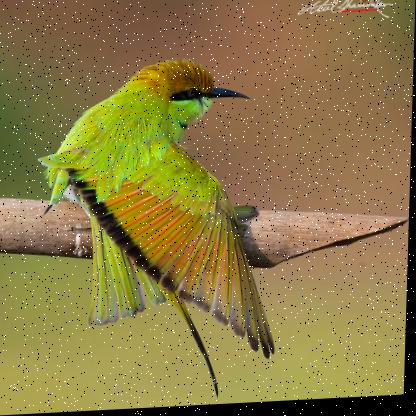Burung: (32, 55, 282, 409)
